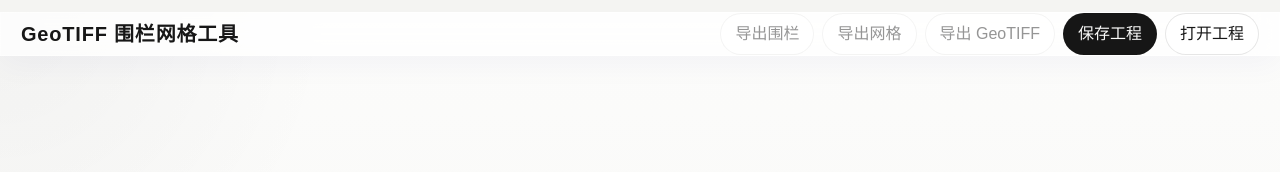
Scenario: TopBar › saves the current setup as a project file
Step 1. Click the button "保存工程" → [1110, 34], box [1063,13,1157,55]
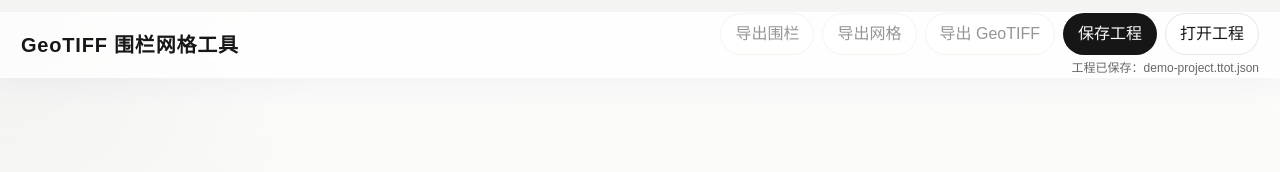
Now the text "工程已保存：demo-project.ttot.json" is shown, box [1072,59,1259,77]
